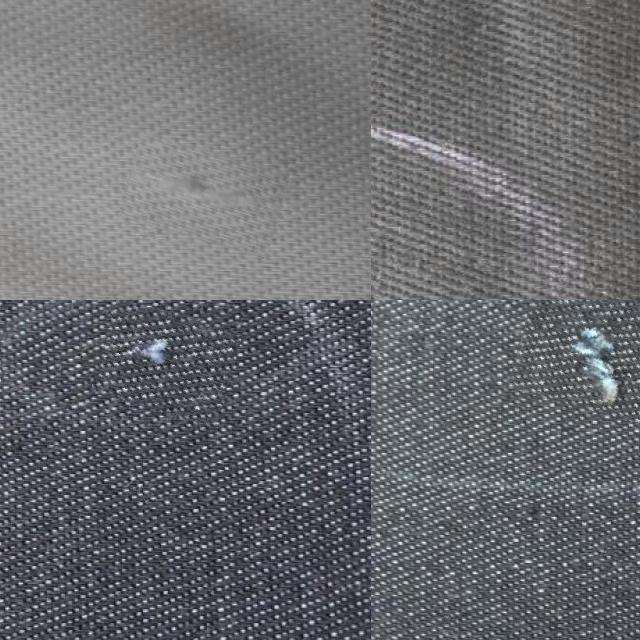Thread_other: (122, 141, 286, 249), (513, 300, 640, 431), (96, 305, 238, 419)
